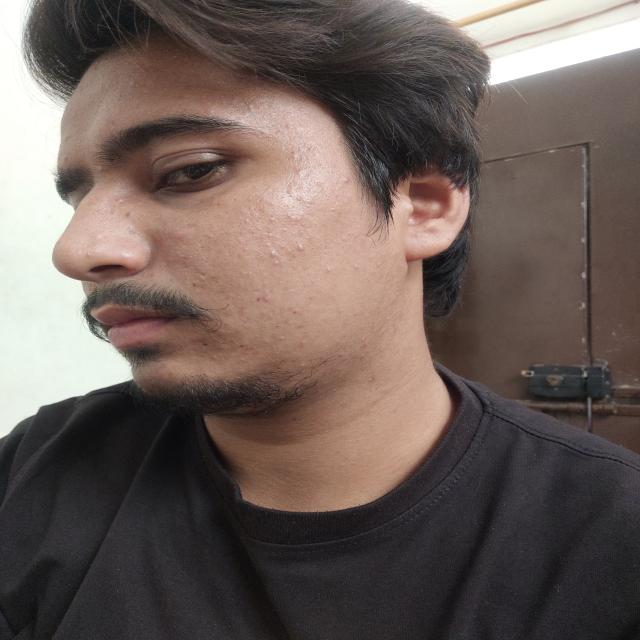Acne: (263, 215, 290, 267), (294, 241, 307, 253), (350, 262, 362, 271), (275, 334, 287, 342), (341, 177, 352, 185), (324, 266, 335, 274), (261, 294, 272, 302), (59, 155, 70, 163), (114, 197, 125, 204), (97, 166, 107, 172), (85, 250, 94, 256), (285, 124, 291, 130)
Englarged-Pores: (167, 224, 220, 288), (256, 201, 312, 252), (221, 210, 254, 265)
Eyebags: (148, 164, 236, 210)
